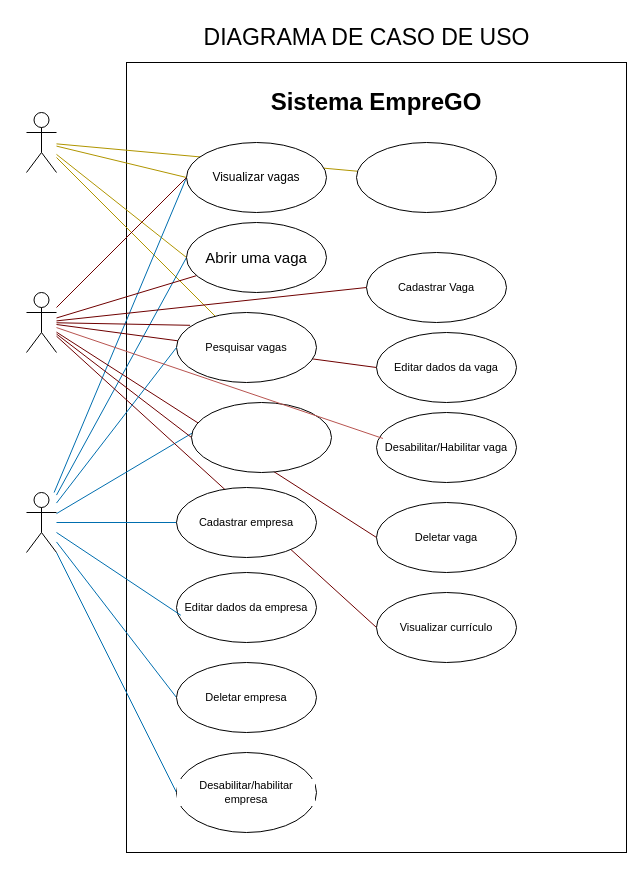
This 644x871 diagram has some shape labels left out. The centre of each missing label's shape, as x and y in pixels:
"ADM" goes at point 41,522.
"Empresa" goes at point 41,322.
"Enviar Currículo" goes at point 426,177.
"Logar no sistema" goes at point 261,437.
"Visitante" goes at point 41,142.
